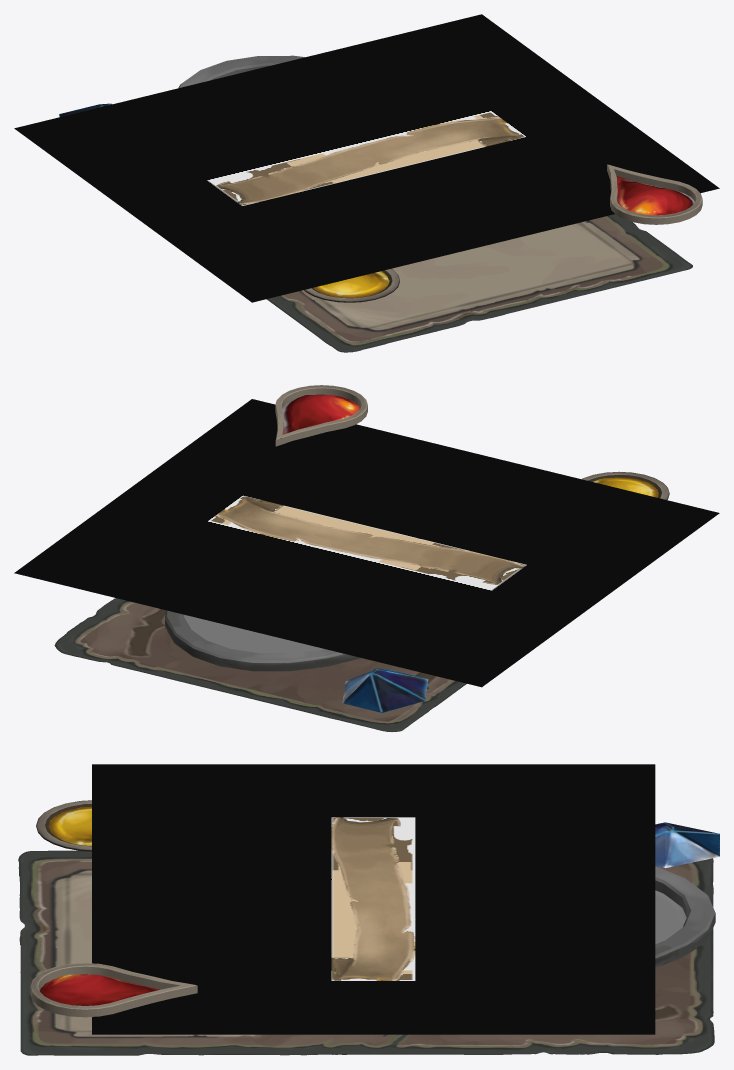
File: 3D_Card.obj
The picture shows the model from 3 angles, top to bottom: view 1: azimuth 30°, elevation 25°; view 2: azimuth 150°, elevation 25°; view 3: azimuth 270°, elevation 25°; orthographic projection. The views are drawn at different scales.
Parts seen in each view (by area): view 1: fiche1; view 2: fiche1; view 3: fiche1.
Part boxes in pixels (bbox=[...]): fiche1: bbox=[14, 14, 719, 352]; fiche1: bbox=[14, 385, 719, 731]; fiche1: bbox=[18, 764, 719, 1055].
Bounding box in the file's own units: 4.42 × 0.5131 × 4.88.
6 materials, 6 textured.
